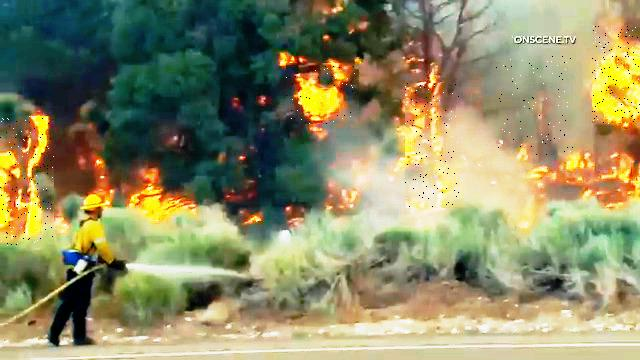fire: (0, 116, 54, 246), (406, 83, 460, 208), (592, 25, 640, 124), (286, 64, 359, 127)
smoke: (496, 56, 574, 155)
